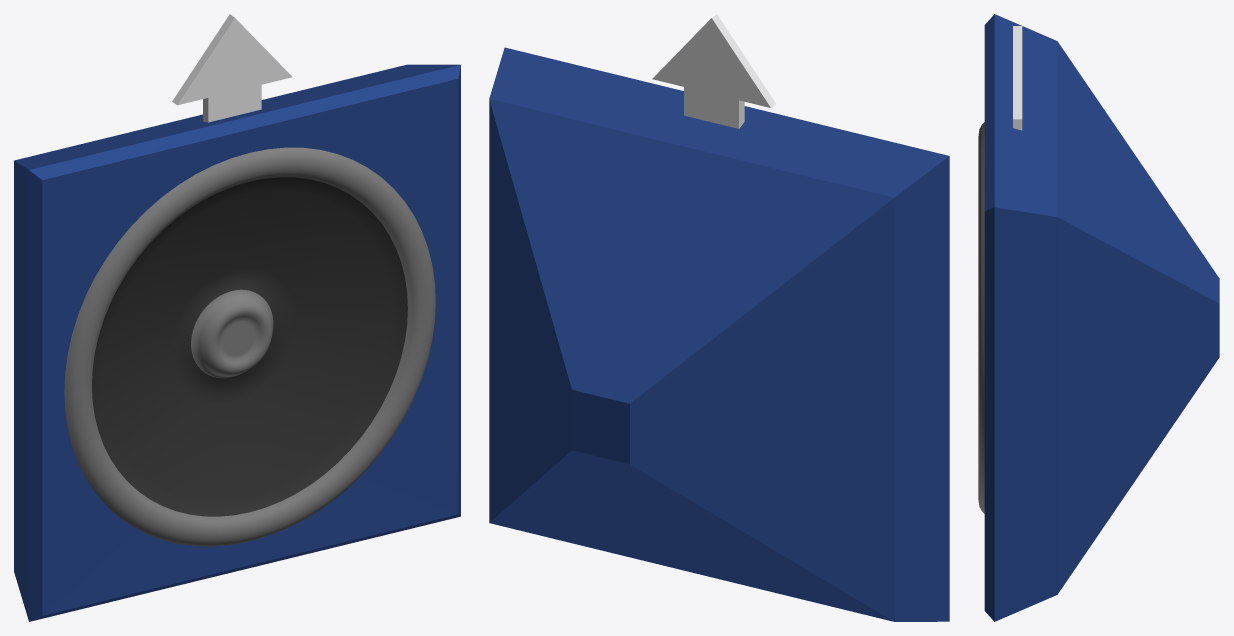
File: speaker.glb
The picture shows the model from 3 angles, left to right: view 1: azimuth 30°, elevation 25°; view 2: azimuth 150°, elevation 25°; view 3: azimuth 270°, elevation 25°; orthographic projection. The views are drawn at different scales.
Visible parts, largest first — view 1: Plane.001, Plane.002, Plane; view 2: Plane.002, Plane; view 3: Plane.002, Plane.001, Plane.
Boxes of the visible parts, left/top/right/bottom form: Plane.001: left=64, top=147, right=435, bottom=546; Plane.002: left=14, top=64, right=460, bottom=621; Plane: left=172, top=14, right=292, bottom=122; Plane.002: left=489, top=47, right=949, bottom=621; Plane: left=652, top=14, right=776, bottom=128; Plane.002: left=984, top=14, right=1219, bottom=621; Plane.001: left=978, top=122, right=984, bottom=513; Plane: left=1013, top=26, right=1022, bottom=130.
Bounding box in the file's own units: 0.6627 × 0.7982 × 0.3492.
